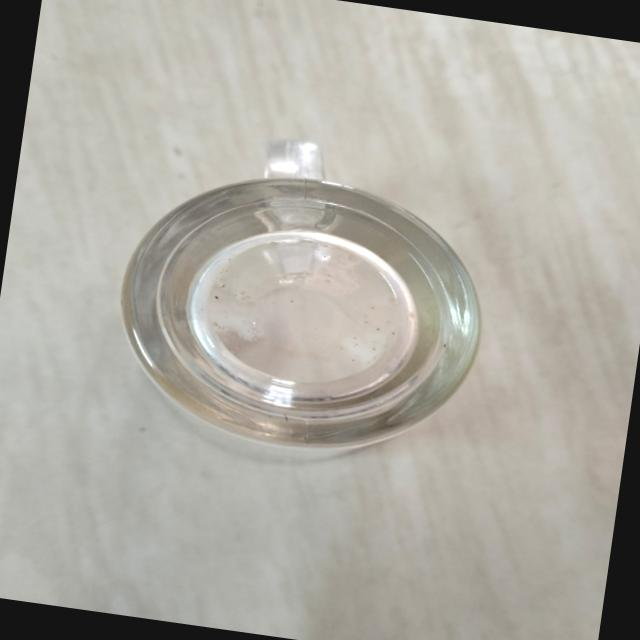glass-VX4N: (98, 115, 510, 482)
